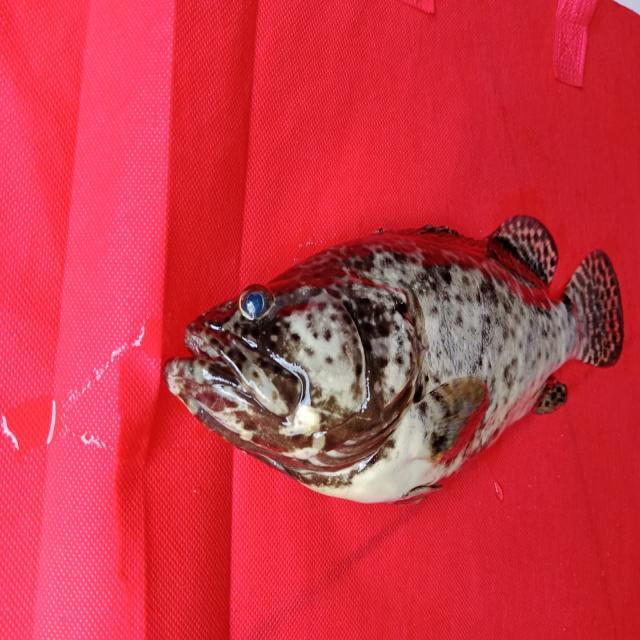ikan: (148, 190, 625, 522)
